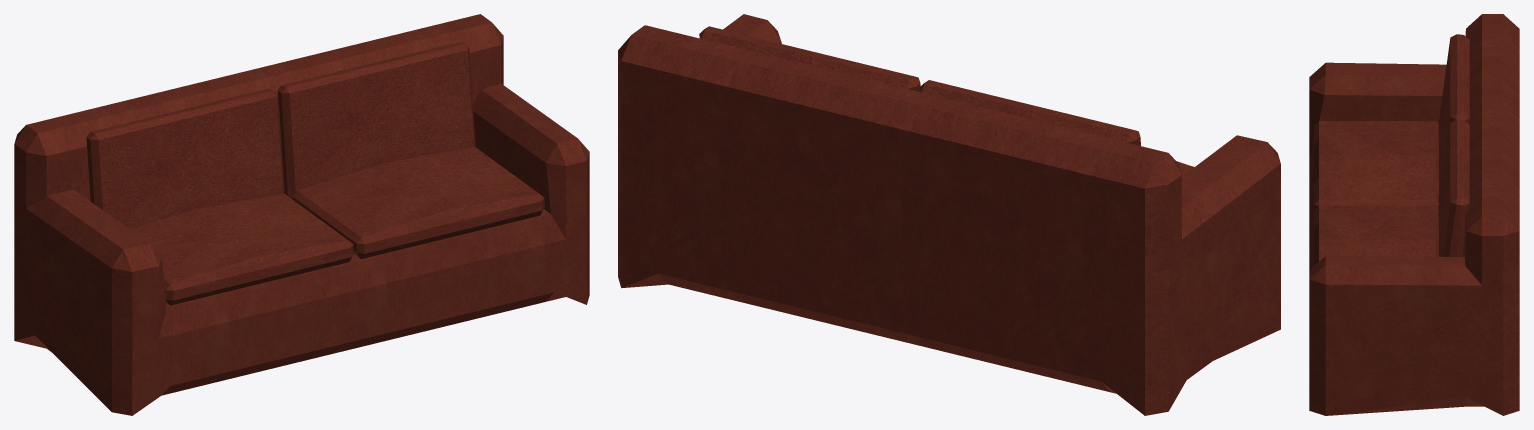
Rendered from Kärpänen_Sohva.fbx.
The picture shows the model from 3 angles, left to right: view 1: azimuth 30°, elevation 25°; view 2: azimuth 150°, elevation 25°; view 3: azimuth 270°, elevation 25°; orthographic projection. The views are drawn at different scales.
Parts seen in each view (by area): view 1: Cube.021, Cube.025; view 2: Cube.021, Cube.025; view 3: Cube.021, Cube.025.
Part boxes in pixels (<box>): Cube.021: <box>14,14,589,415</box>; Cube.025: <box>86,42,544,305</box>; Cube.021: <box>618,14,1280,415</box>; Cube.025: <box>699,26,1194,176</box>; Cube.021: <box>1309,14,1519,415</box>; Cube.025: <box>1314,34,1469,265</box>.
Bounding box in the file's own units: 6162 × 2629 × 2574.
Materials: 1 (1 with a texture image).
